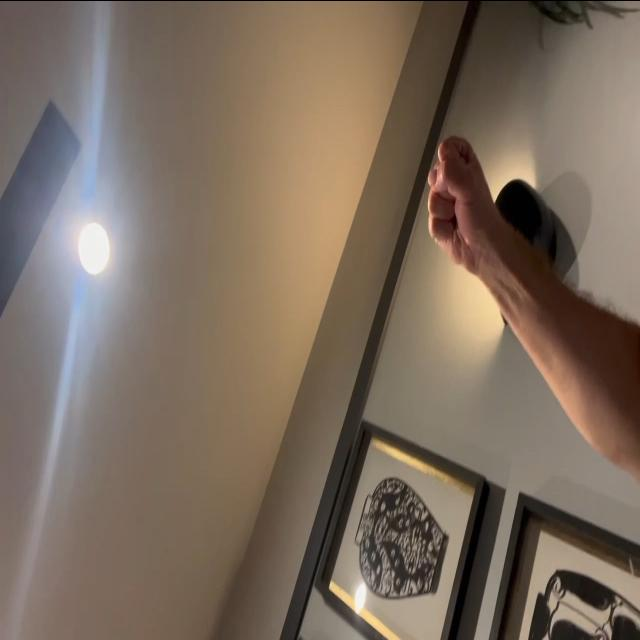Rock: (424, 134, 492, 276)
